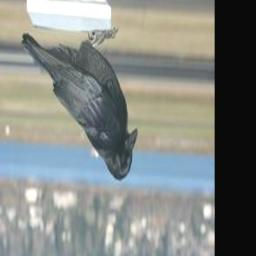Crow: (20, 29, 138, 184)
